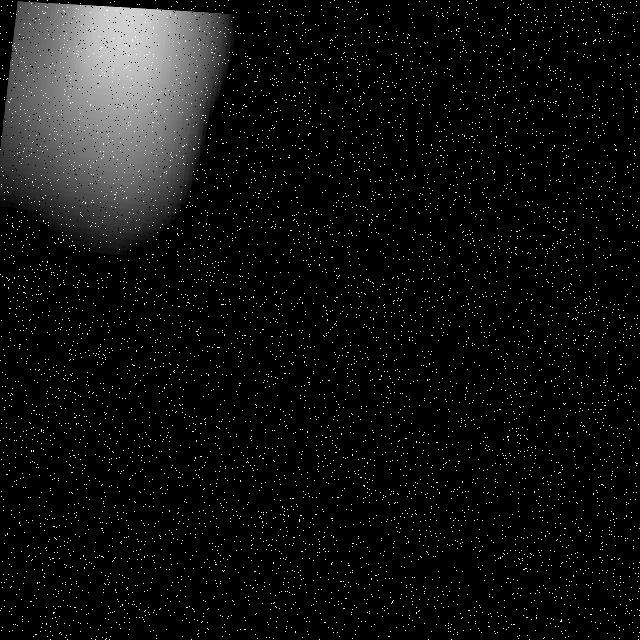person: (1, 1, 243, 280)
